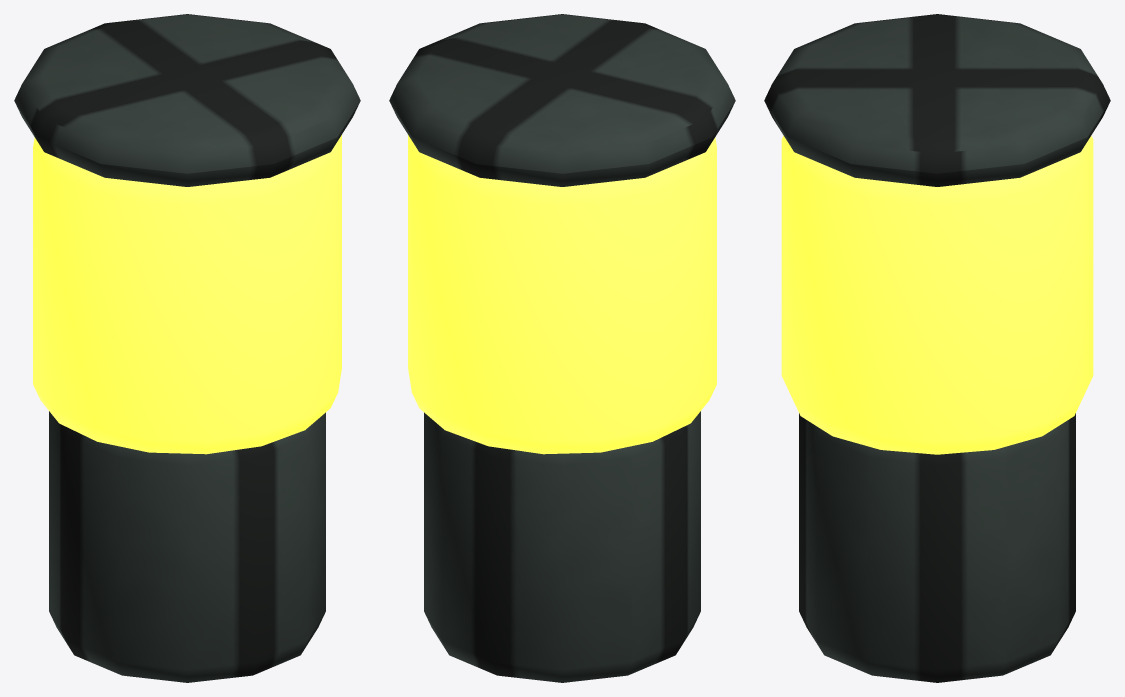
Rendered from WK_LIGHT_STROBE_A_01.glb.
The picture shows the model from 3 angles, left to right: view 1: azimuth 30°, elevation 25°; view 2: azimuth 150°, elevation 25°; view 3: azimuth 270°, elevation 25°; orthographic projection.
Visible parts, largest first — view 1: WK_LIGHT_STROBE_A_01; view 2: WK_LIGHT_STROBE_A_01; view 3: WK_LIGHT_STROBE_A_01.
Boxes of the visible parts, left/top/right/bottom form: WK_LIGHT_STROBE_A_01: left=14, top=14, right=360, bottom=682; WK_LIGHT_STROBE_A_01: left=389, top=14, right=735, bottom=682; WK_LIGHT_STROBE_A_01: left=764, top=14, right=1110, bottom=682.
Size of the model in its own units: 0.2 by 0.355 by 0.2.
2 materials, 1 textured.
